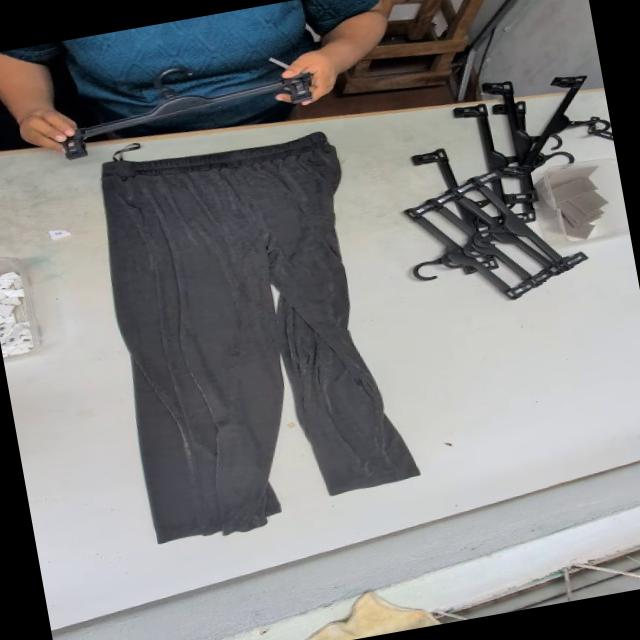new-garment: (102, 131, 419, 541)
